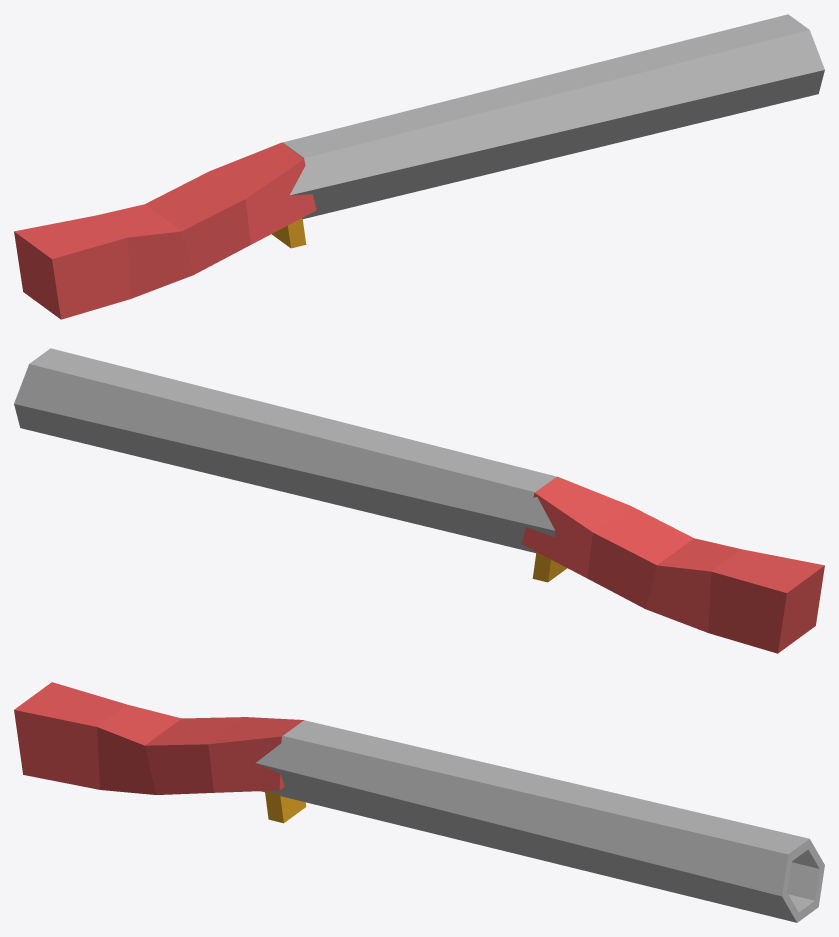
Rendered from Musket.glb.
3 renders of one model, top to bottom at view 1: azimuth 30°, elevation 25°; view 2: azimuth 150°, elevation 25°; view 3: azimuth 330°, elevation 25°, orthographic.
Visible parts, largest first — view 1: Cube.001; view 2: Cube.001; view 3: Cube.001.
Boxes of the visible parts, bbox=[...] form: Cube.001: bbox=[14, 14, 824, 319]; Cube.001: bbox=[14, 348, 824, 653]; Cube.001: bbox=[14, 682, 824, 922].
Bounding box in the file's own units: 2.92 × 0.3562 × 0.28.
